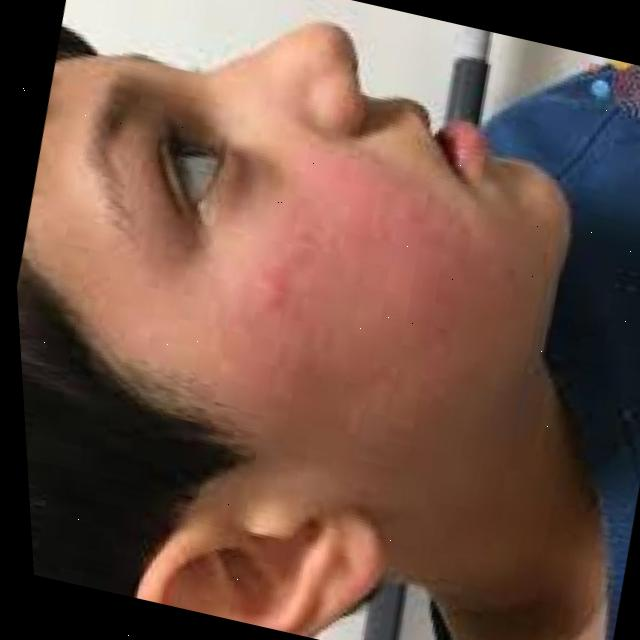Eczema: (213, 176, 482, 421)
